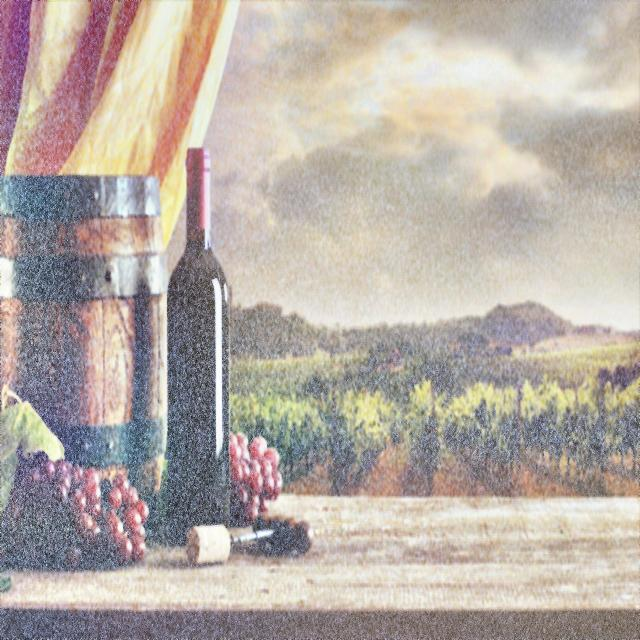cork: (183, 510, 234, 572)
